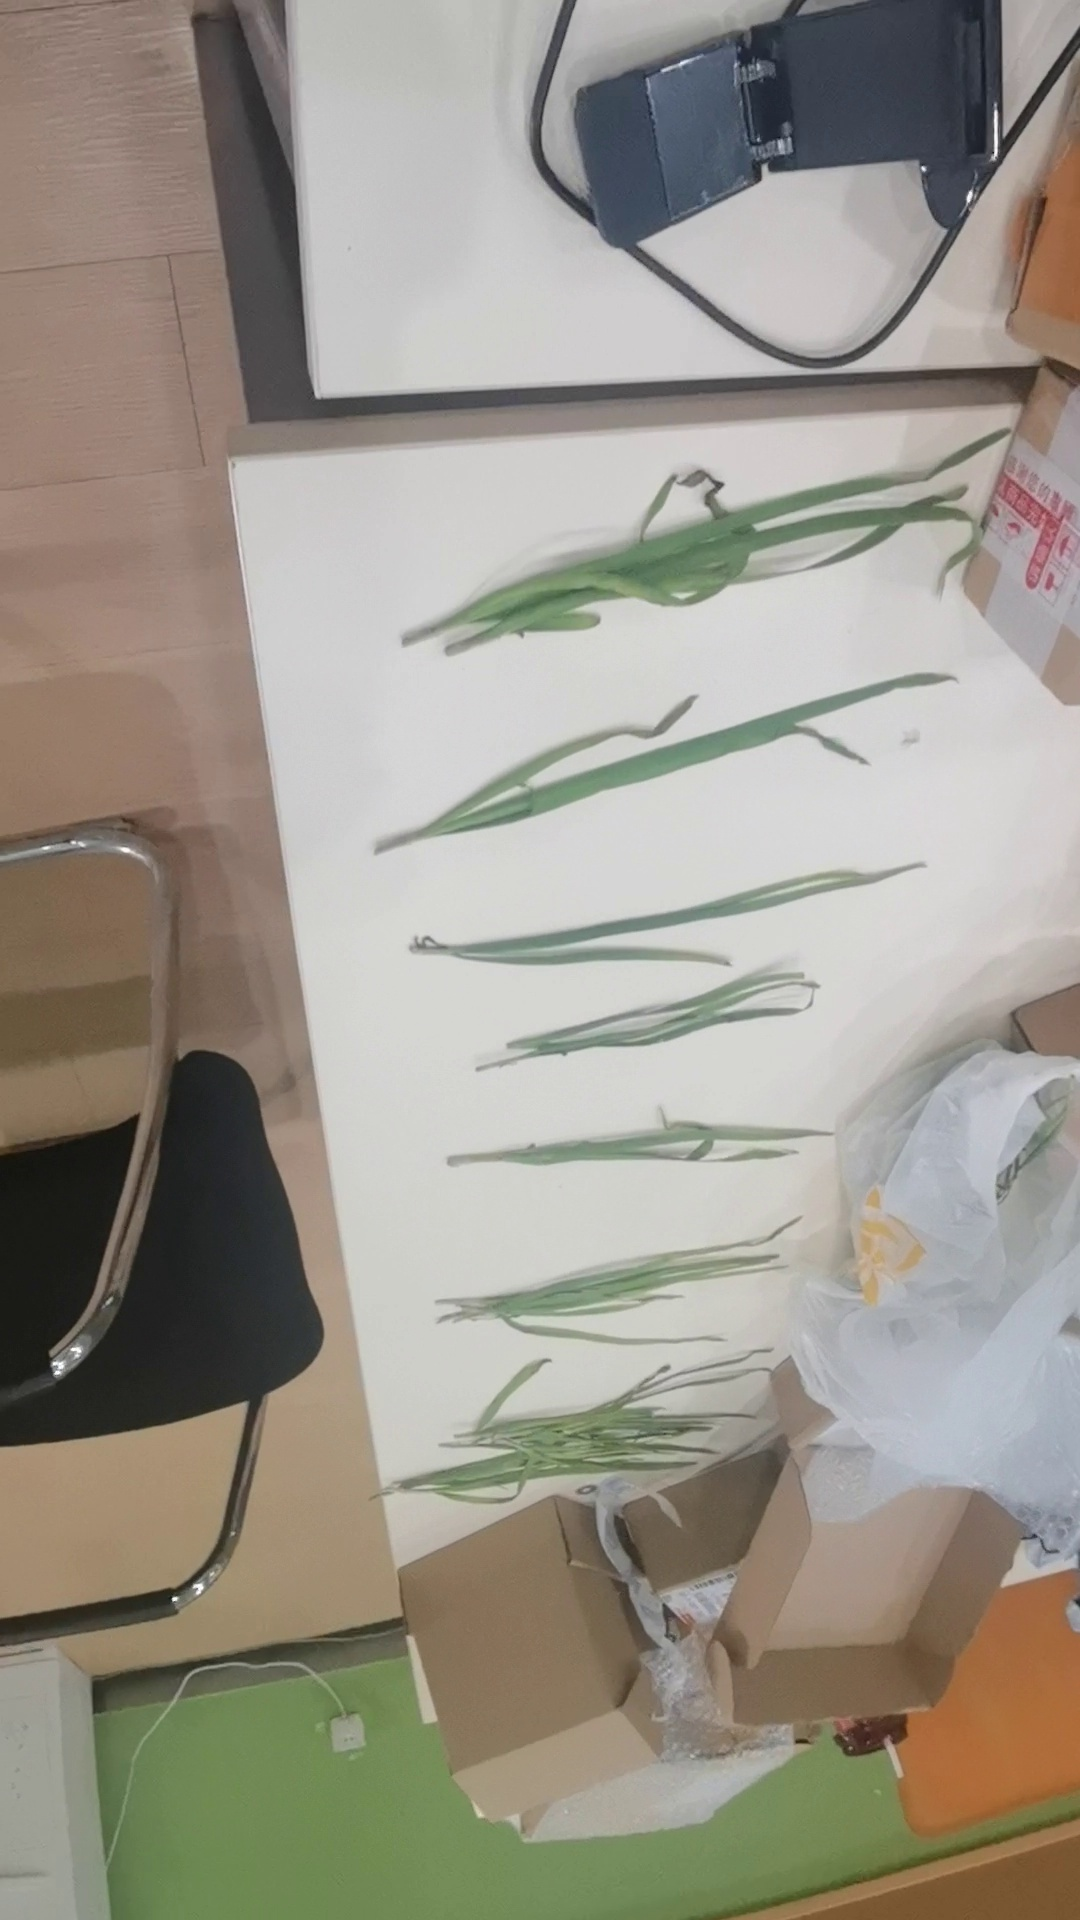chives: (347, 451, 1038, 678), (322, 709, 1063, 888), (383, 1386, 845, 1556), (392, 872, 1018, 978), (449, 1104, 924, 1209), (438, 988, 955, 1082), (392, 1251, 912, 1339)
